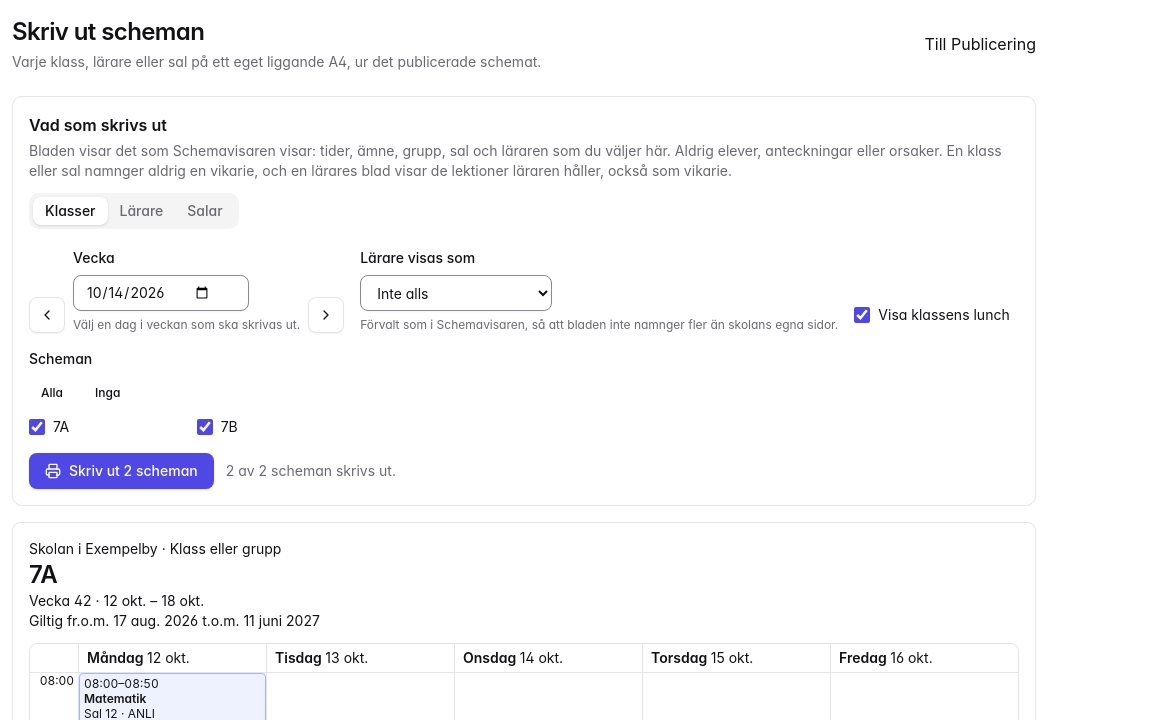
/admin/publishing/print › prints the sheets chosen, and leaves the others off paper
Expected: the heading "7A" is shown, [29, 560, 58, 589]
Click the checkbox labelled "7B": click(205, 427) [197, 419, 213, 435]
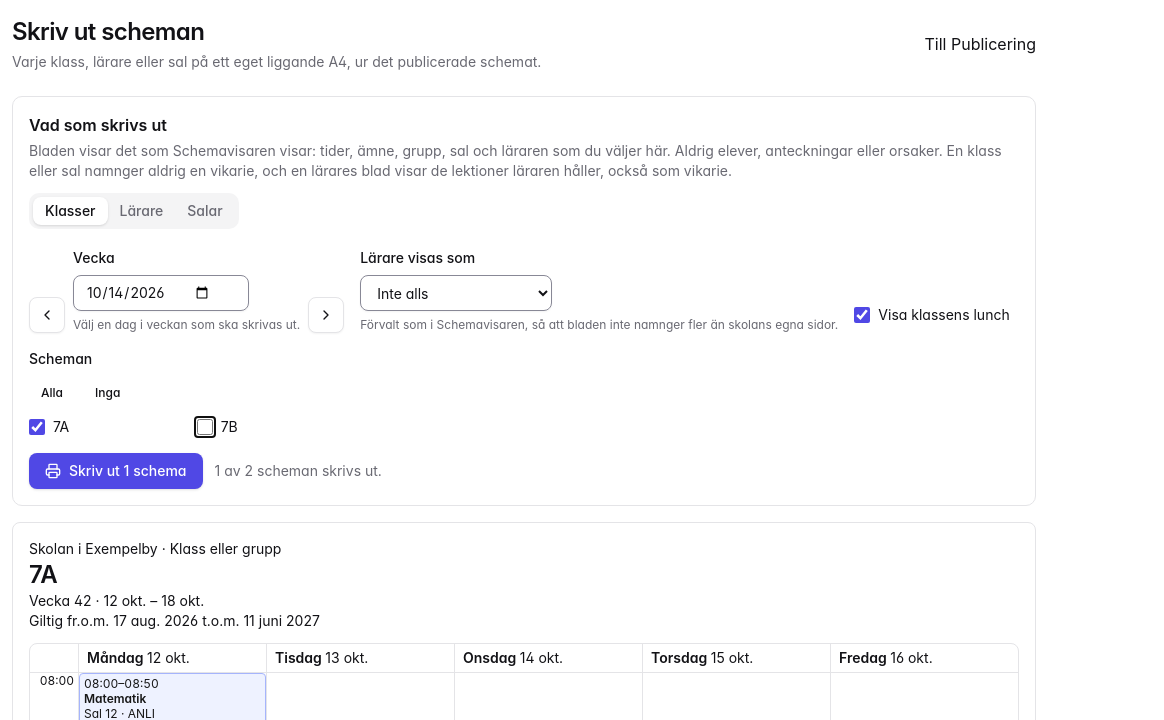
Expected: the text "1 av 2 scheman skrivs ut." is shown, [214, 461, 382, 481]
Click the button "Skriv ut 1 schema": click(116, 471) [29, 453, 202, 489]
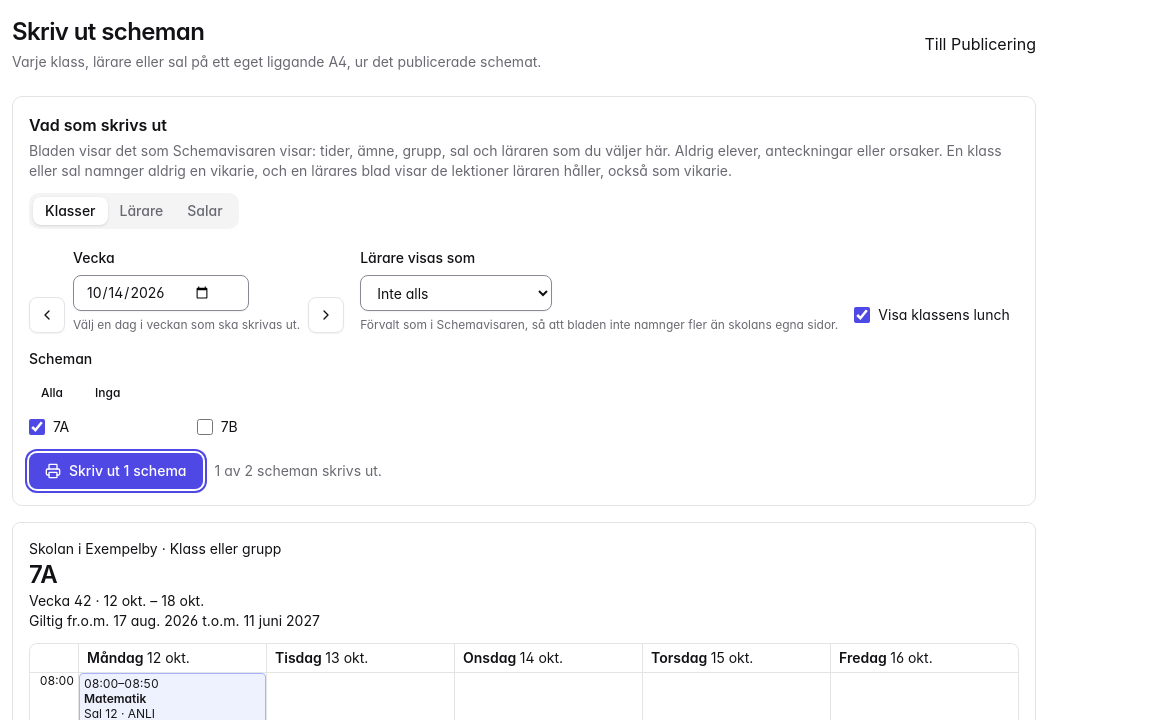
Click the button "Inga": click(108, 393) [83, 377, 132, 409]
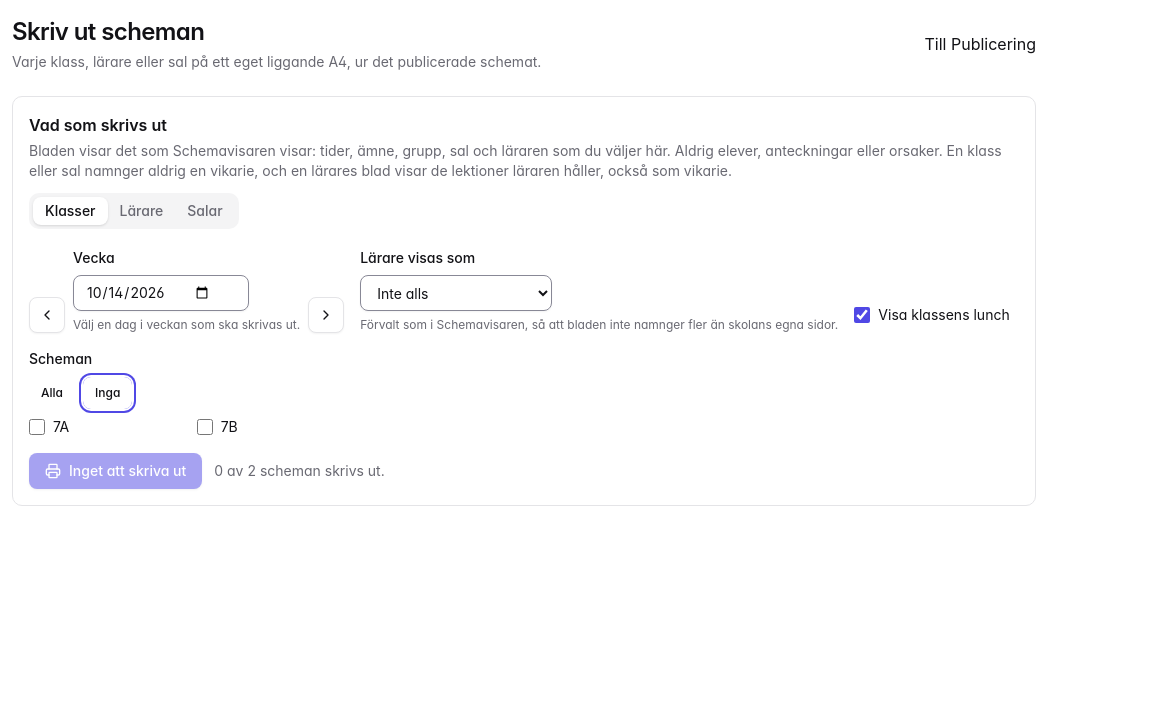
Expected: the button "Inget att skriva ut" is disabled, [29, 453, 202, 489]
